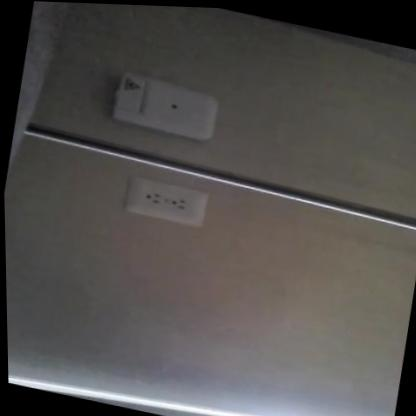OUTLET: (123, 172, 211, 229)
